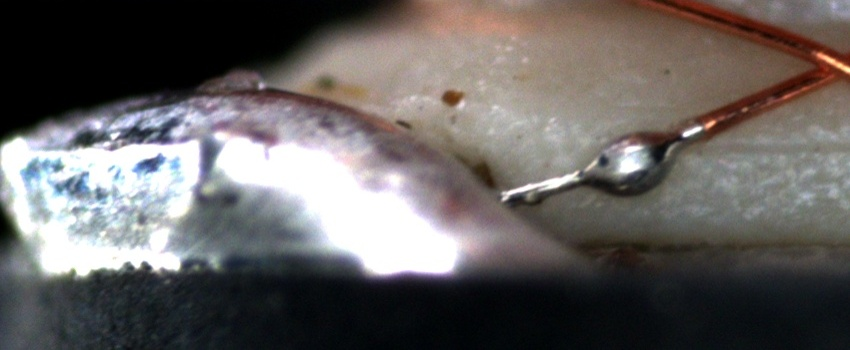CL: (791, 36, 850, 91)
DL: (709, 119, 843, 178)
TB: (578, 116, 688, 207)
TS: (496, 120, 703, 203)
TTCW: (483, 103, 733, 205)
